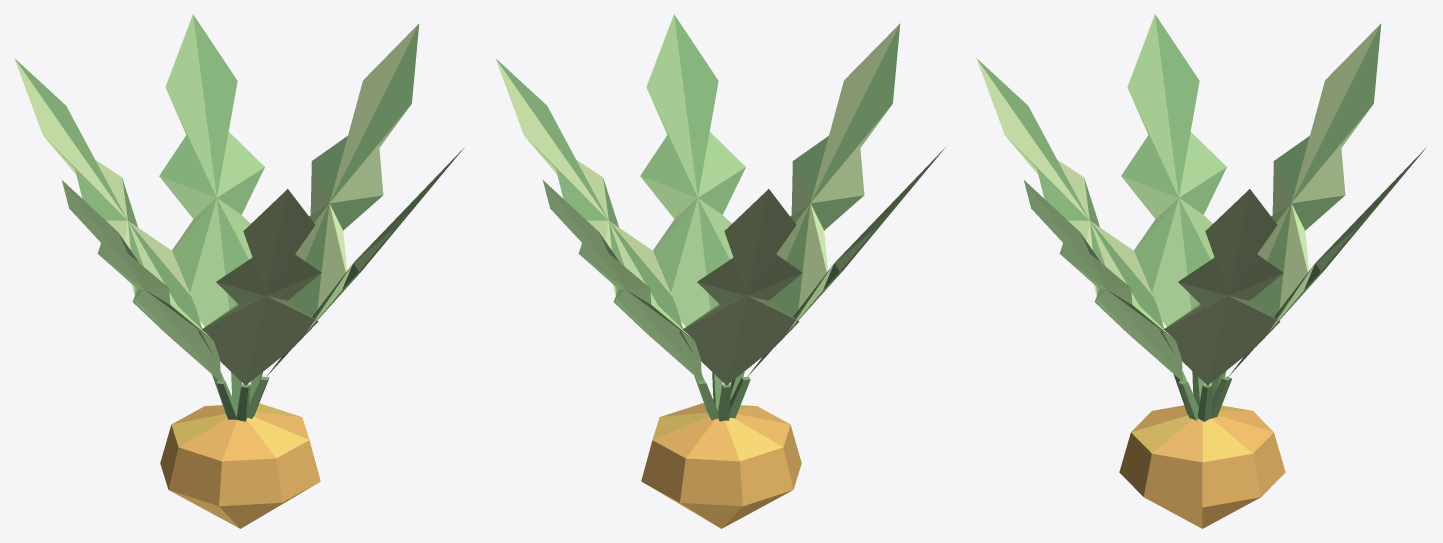
The model's file is crop_carrot_s3.glb.
3 views of the same model, side by side, from view 1: azimuth 30°, elevation 25°; view 2: azimuth 150°, elevation 25°; view 3: azimuth 270°, elevation 25° (orthographic).
Parts seen in each view (by area): view 1: crop_carrot_s3; view 2: crop_carrot_s3; view 3: crop_carrot_s3.
Part boxes in pixels (left/top/right/bottom): crop_carrot_s3: left=14, top=14, right=464, bottom=528; crop_carrot_s3: left=495, top=14, right=945, bottom=528; crop_carrot_s3: left=976, top=14, right=1426, bottom=528.
Bounding box in the file's own units: 0.6468 × 0.67 × 0.6257.
